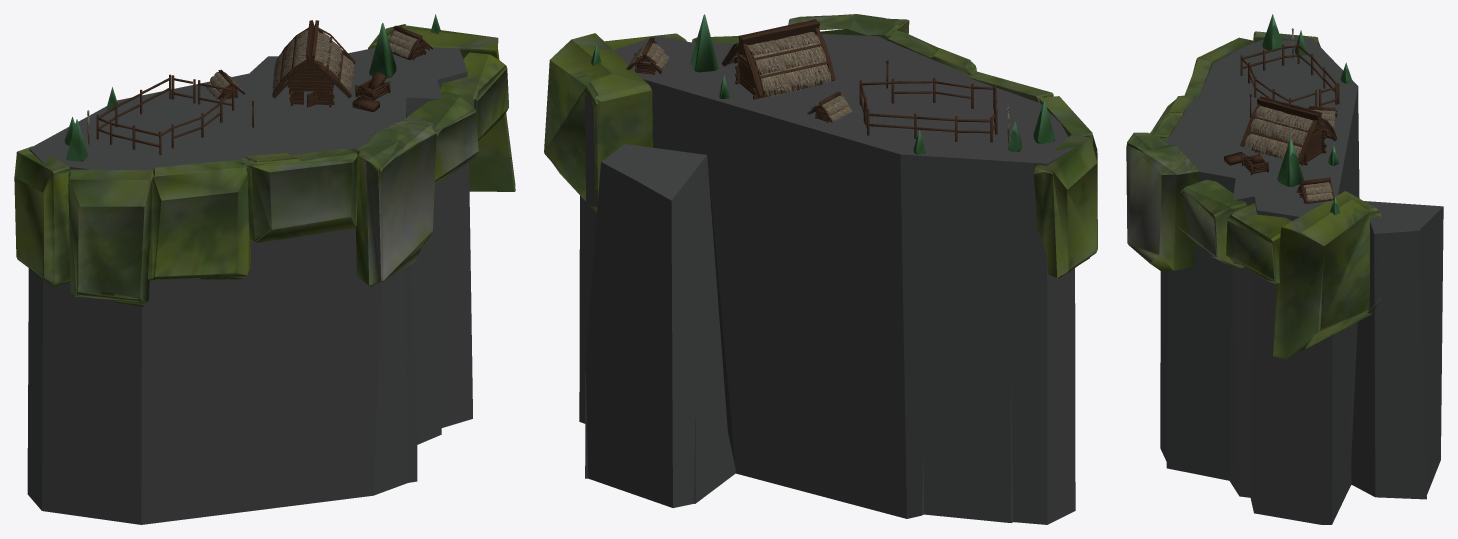
Rendered from farm.glb.
3 renders of one model, left to right at view 1: azimuth 30°, elevation 25°; view 2: azimuth 150°, elevation 25°; view 3: azimuth 270°, elevation 25°, orthographic. The views are drawn at different scales.
Visible parts, largest first — view 1: farm; view 2: farm; view 3: farm.
Part boxes in pixels (box(x1,y1,x2,y2)): farm: box(14, 14, 515, 524); farm: box(544, 14, 1097, 524); farm: box(1126, 14, 1443, 524).
Size of the model in its own units: 2.66 by 2.05 by 1.69.
Materials: 5 (3 with a texture image).
